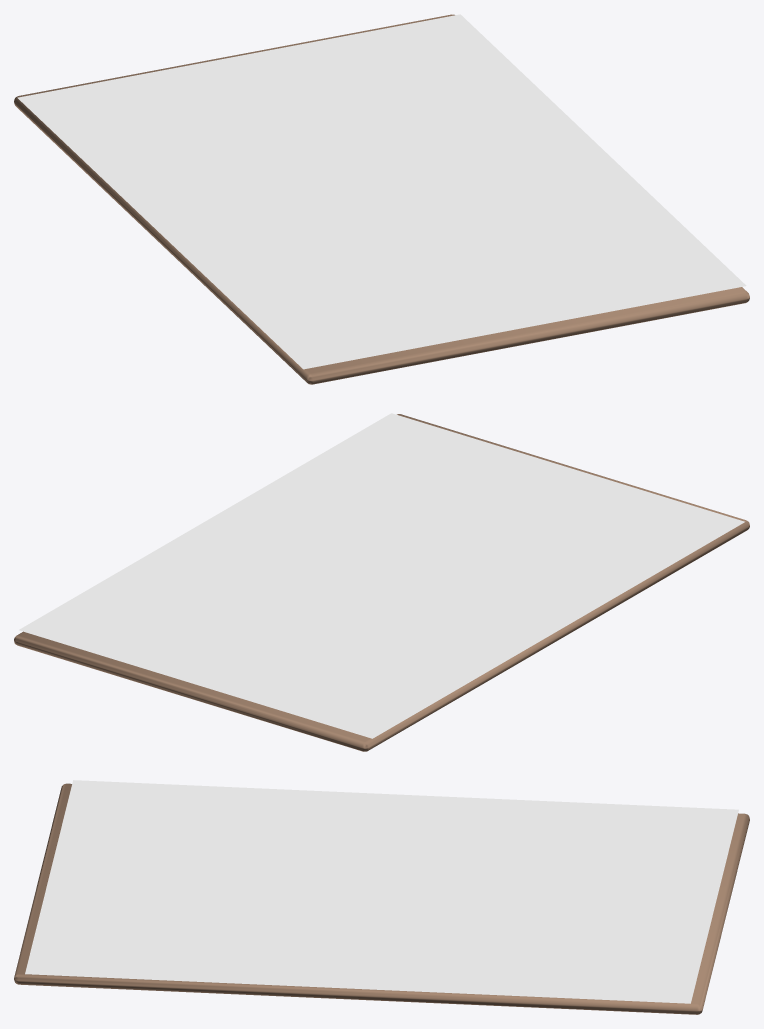
Rendered from KurodaHome_Rules.fbx.
3 views of the same model, one above another, from view 1: azimuth 30°, elevation 25°; view 2: azimuth 150°, elevation 25°; view 3: azimuth 270°, elevation 25° (orthographic). The views are drawn at different scales.
Visible parts, largest first — view 1: KurodaHome_Rules; view 2: KurodaHome_Rules; view 3: KurodaHome_Rules.
Boxes of the visible parts, bbox=[...] form: KurodaHome_Rules: bbox=[14, 14, 749, 384]; KurodaHome_Rules: bbox=[14, 413, 749, 751]; KurodaHome_Rules: bbox=[14, 780, 749, 1014].
Size of the model in its own units: 0.2298 by 0.006 by 0.3188.
